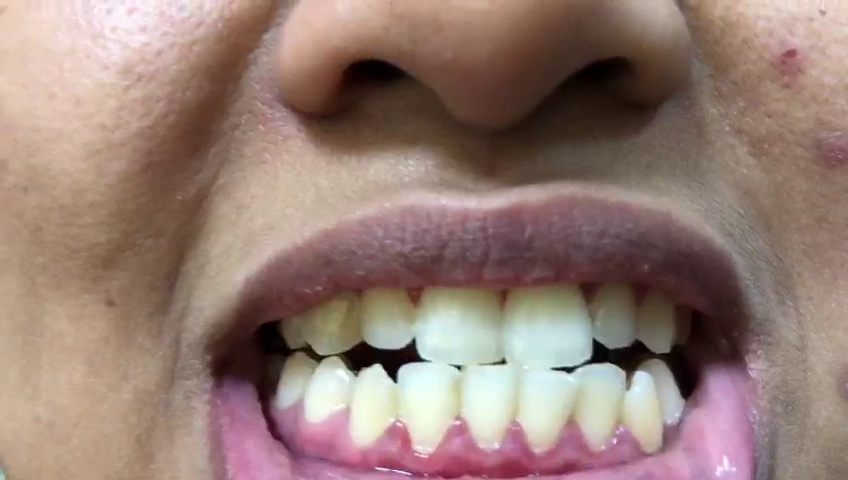1st Premolar: (305, 356, 352, 427), (645, 357, 686, 427)
2nd Premolar: (276, 353, 313, 412)
Canine: (298, 284, 359, 357), (350, 363, 397, 445), (625, 371, 667, 453), (640, 277, 678, 355)
Central Incisor: (504, 273, 595, 368), (415, 275, 502, 365), (515, 366, 576, 454), (461, 361, 513, 454)
Lateral Incisor: (398, 359, 461, 456), (575, 363, 624, 454), (360, 277, 415, 349), (592, 273, 639, 347)
